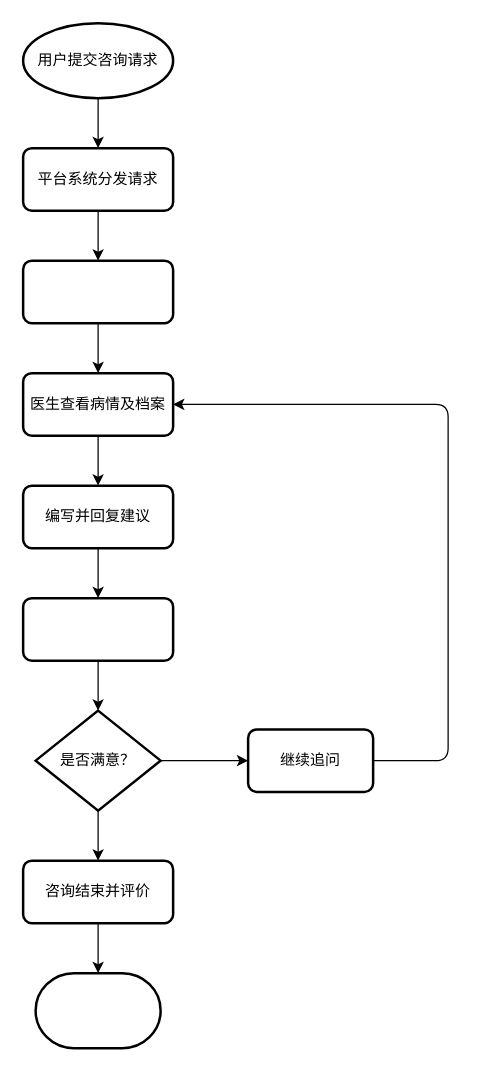
This 480x1070 diagram has some shape labels left out. Each missing label, with the centre of its shape:
"匹配在线专家/医生" goes at (97,291).
"用户收到通知" goes at (97,628).
"结束" goes at (97,1010).
